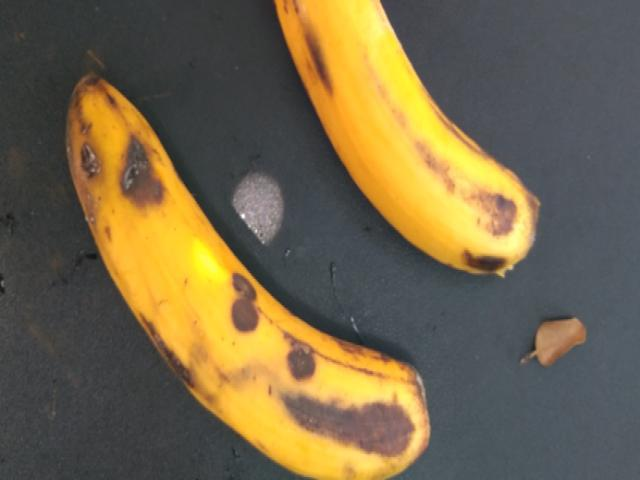overripe: (50, 77, 428, 479), (264, 0, 556, 294)
